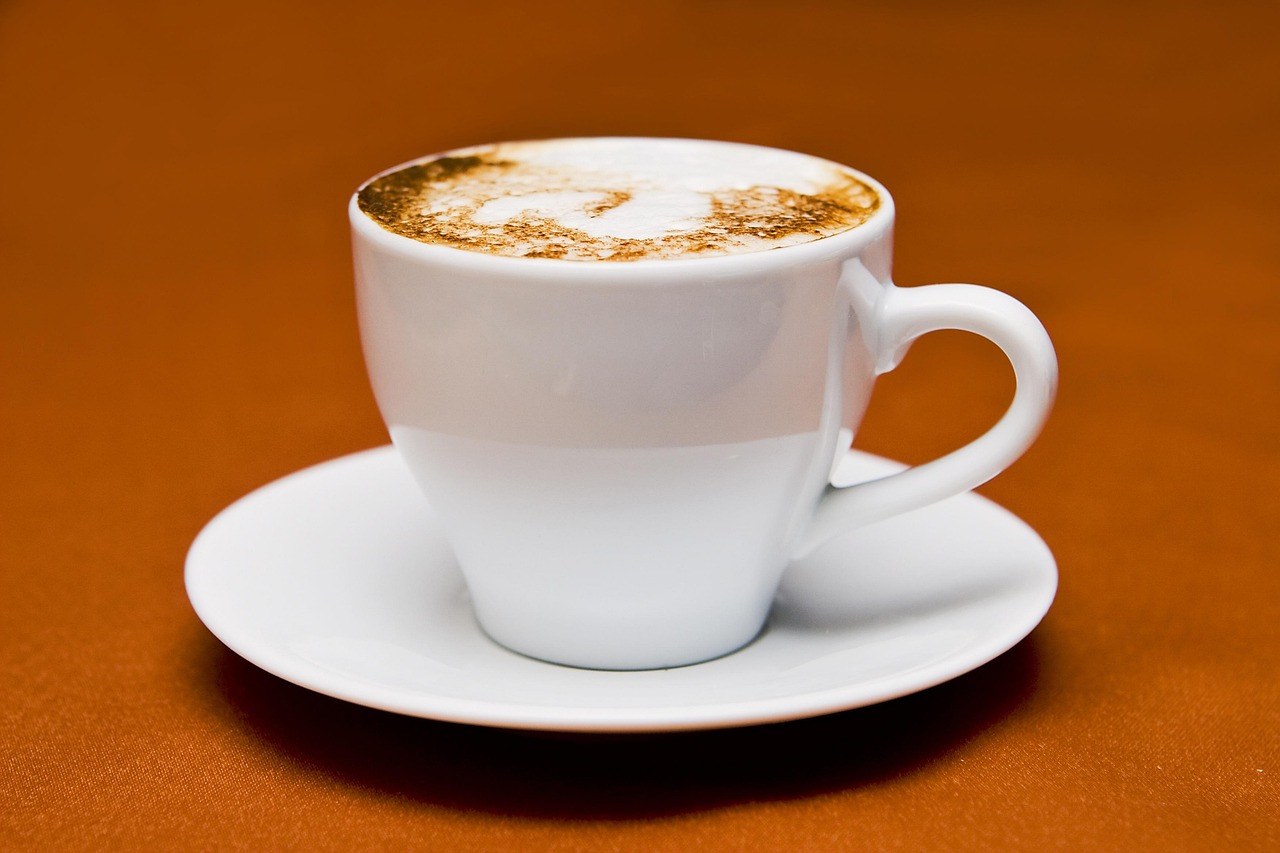mug: (309, 105, 1100, 680)
